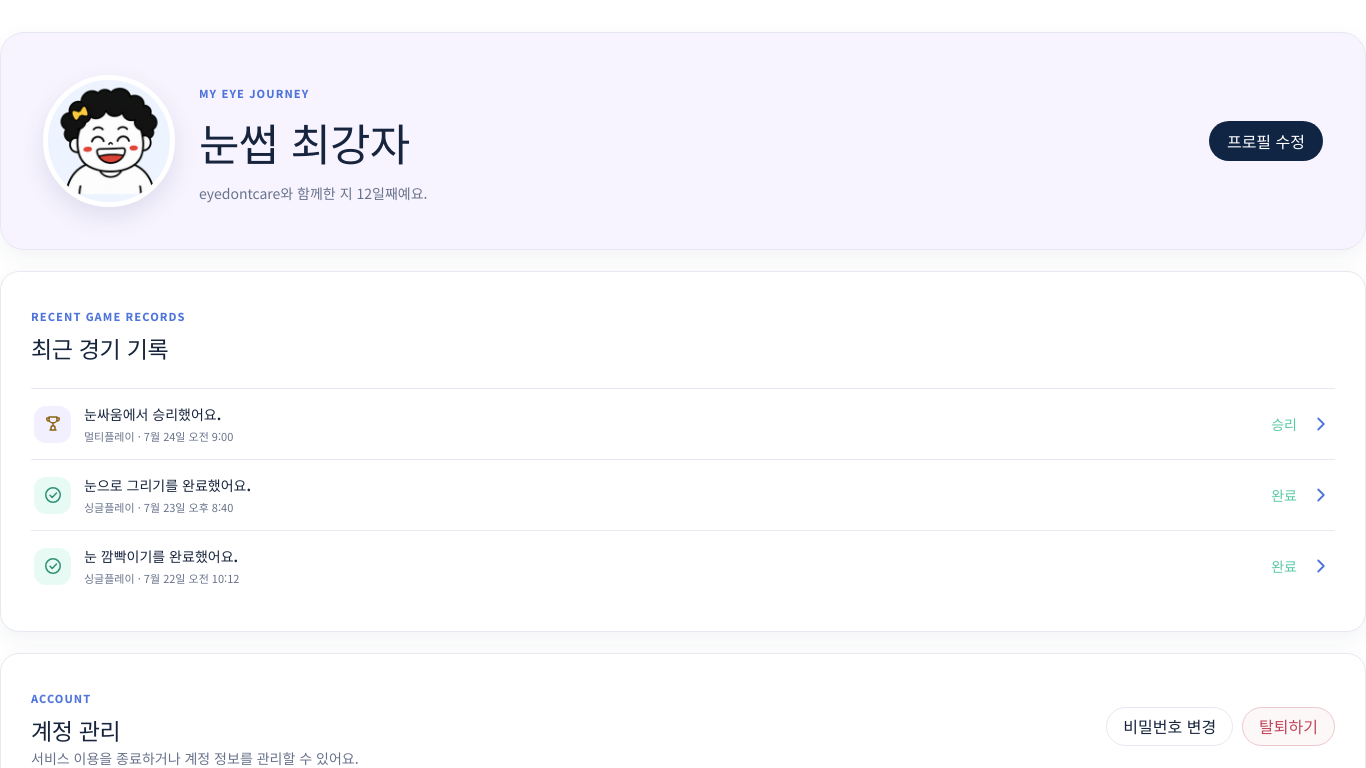
Scenario: ProfilePage › opens and closes the game record detail modal
Click the button that starts with "눈싸움에서 승리했어요.": (52, 424) [31,388,1335,459]
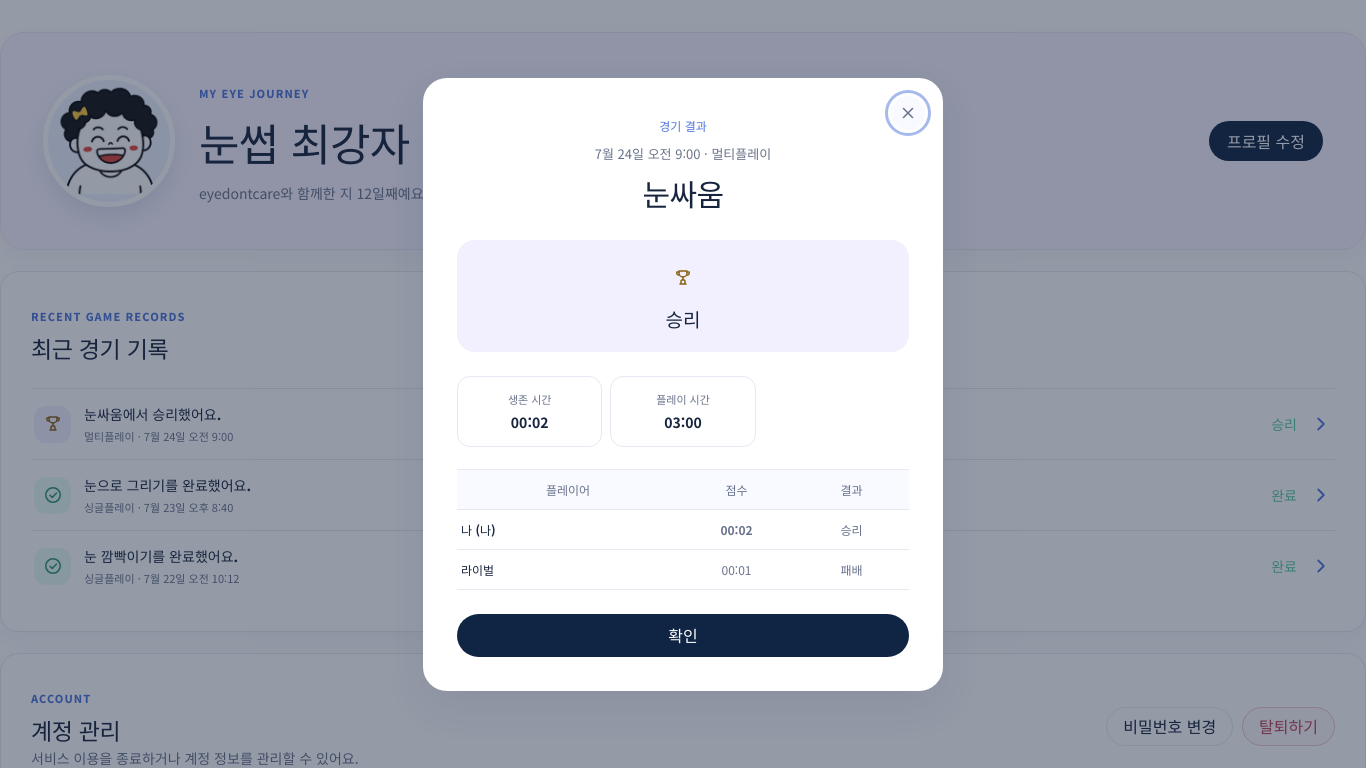
Expected: the text "경기 결과" is shown, [659,116,707,134]
Expected: the text "플레이어" is shown, [546,480,590,498]
Expected: the text "라이벌" is shown, [461,560,494,578]
Click the button with class "game-result-modal__confirm": (683, 635) [457,614,909,656]
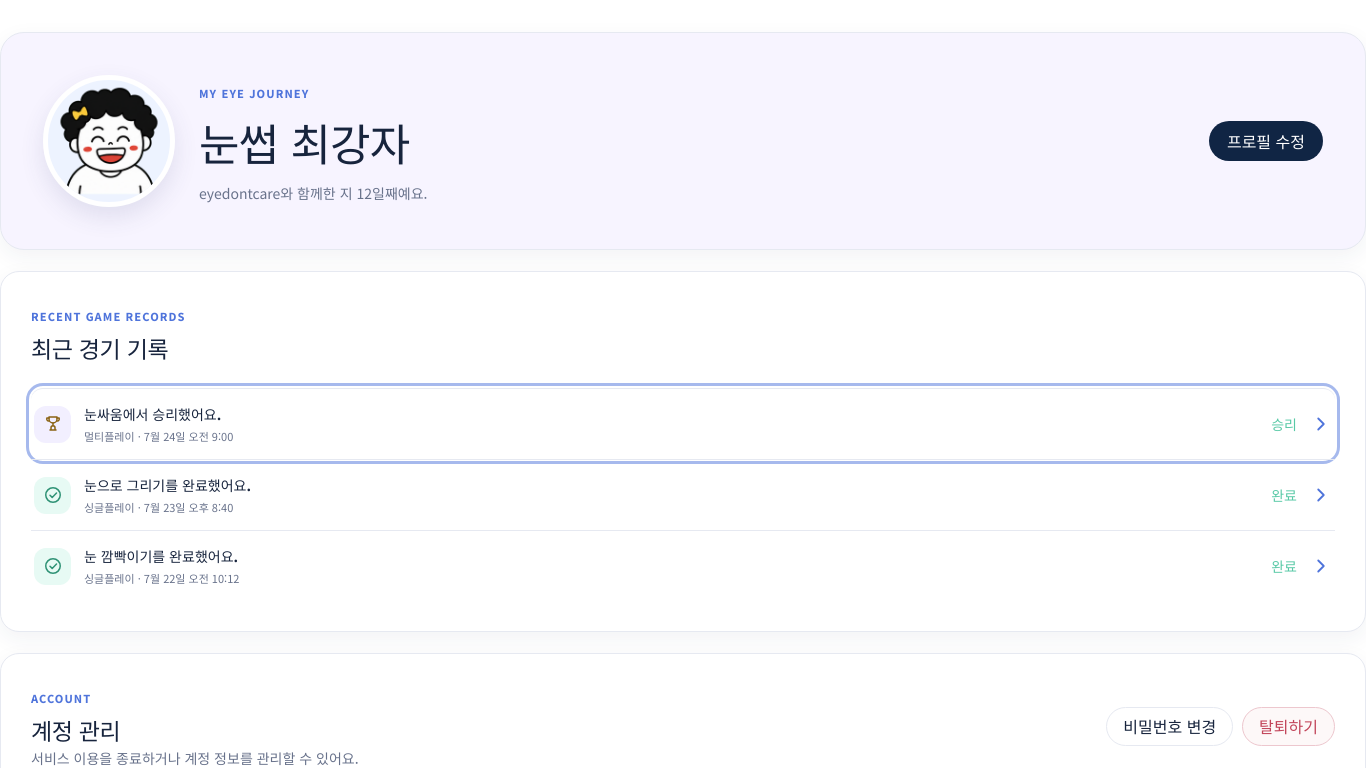
Expected: the element with class "game-result-modal" is gone
